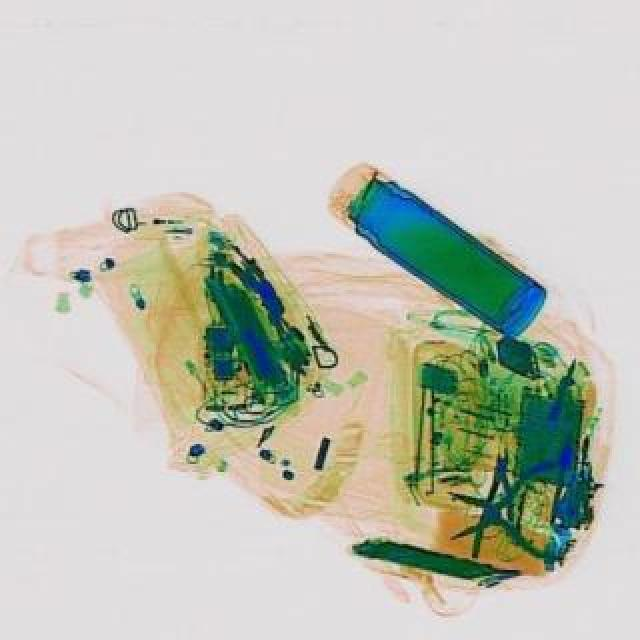wrench: (444, 458, 568, 560), (470, 446, 518, 558)
